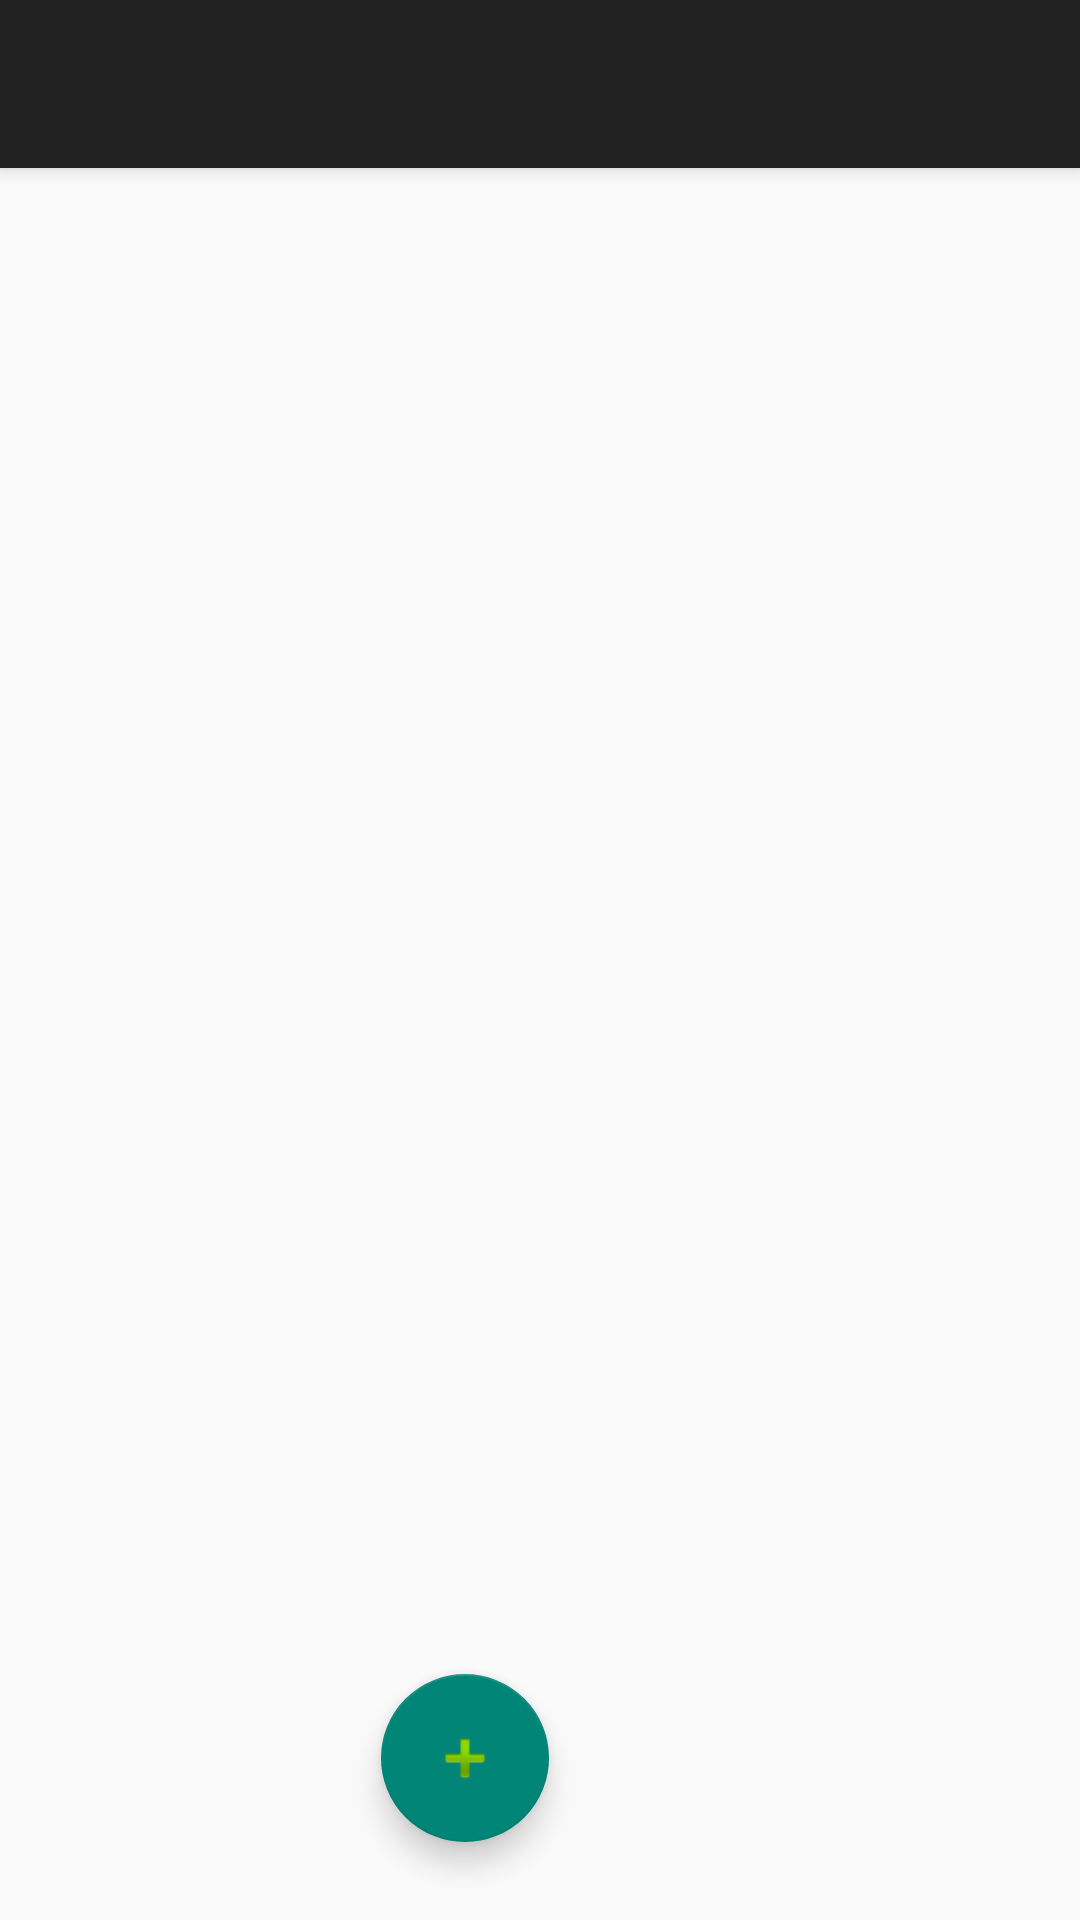

Named icons in this screenshot (1080 × 1920) and their bounding boxes, (x1,y1,x2,y2):
add: (381,1674,549,1842)
